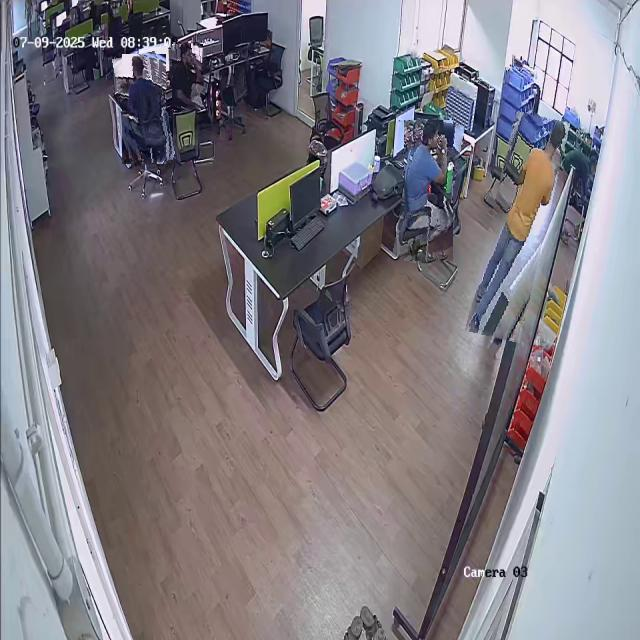person: (478, 112, 558, 342), (398, 118, 459, 263), (117, 53, 171, 165), (170, 43, 205, 111)
